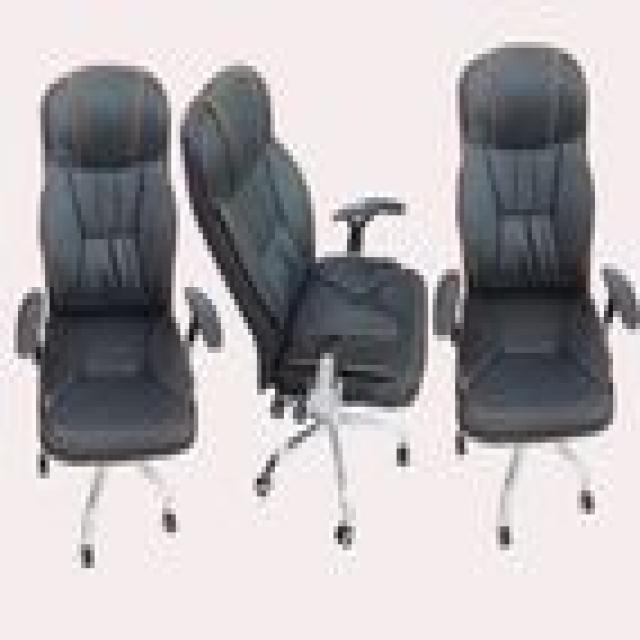others: (18, 12, 640, 574)
